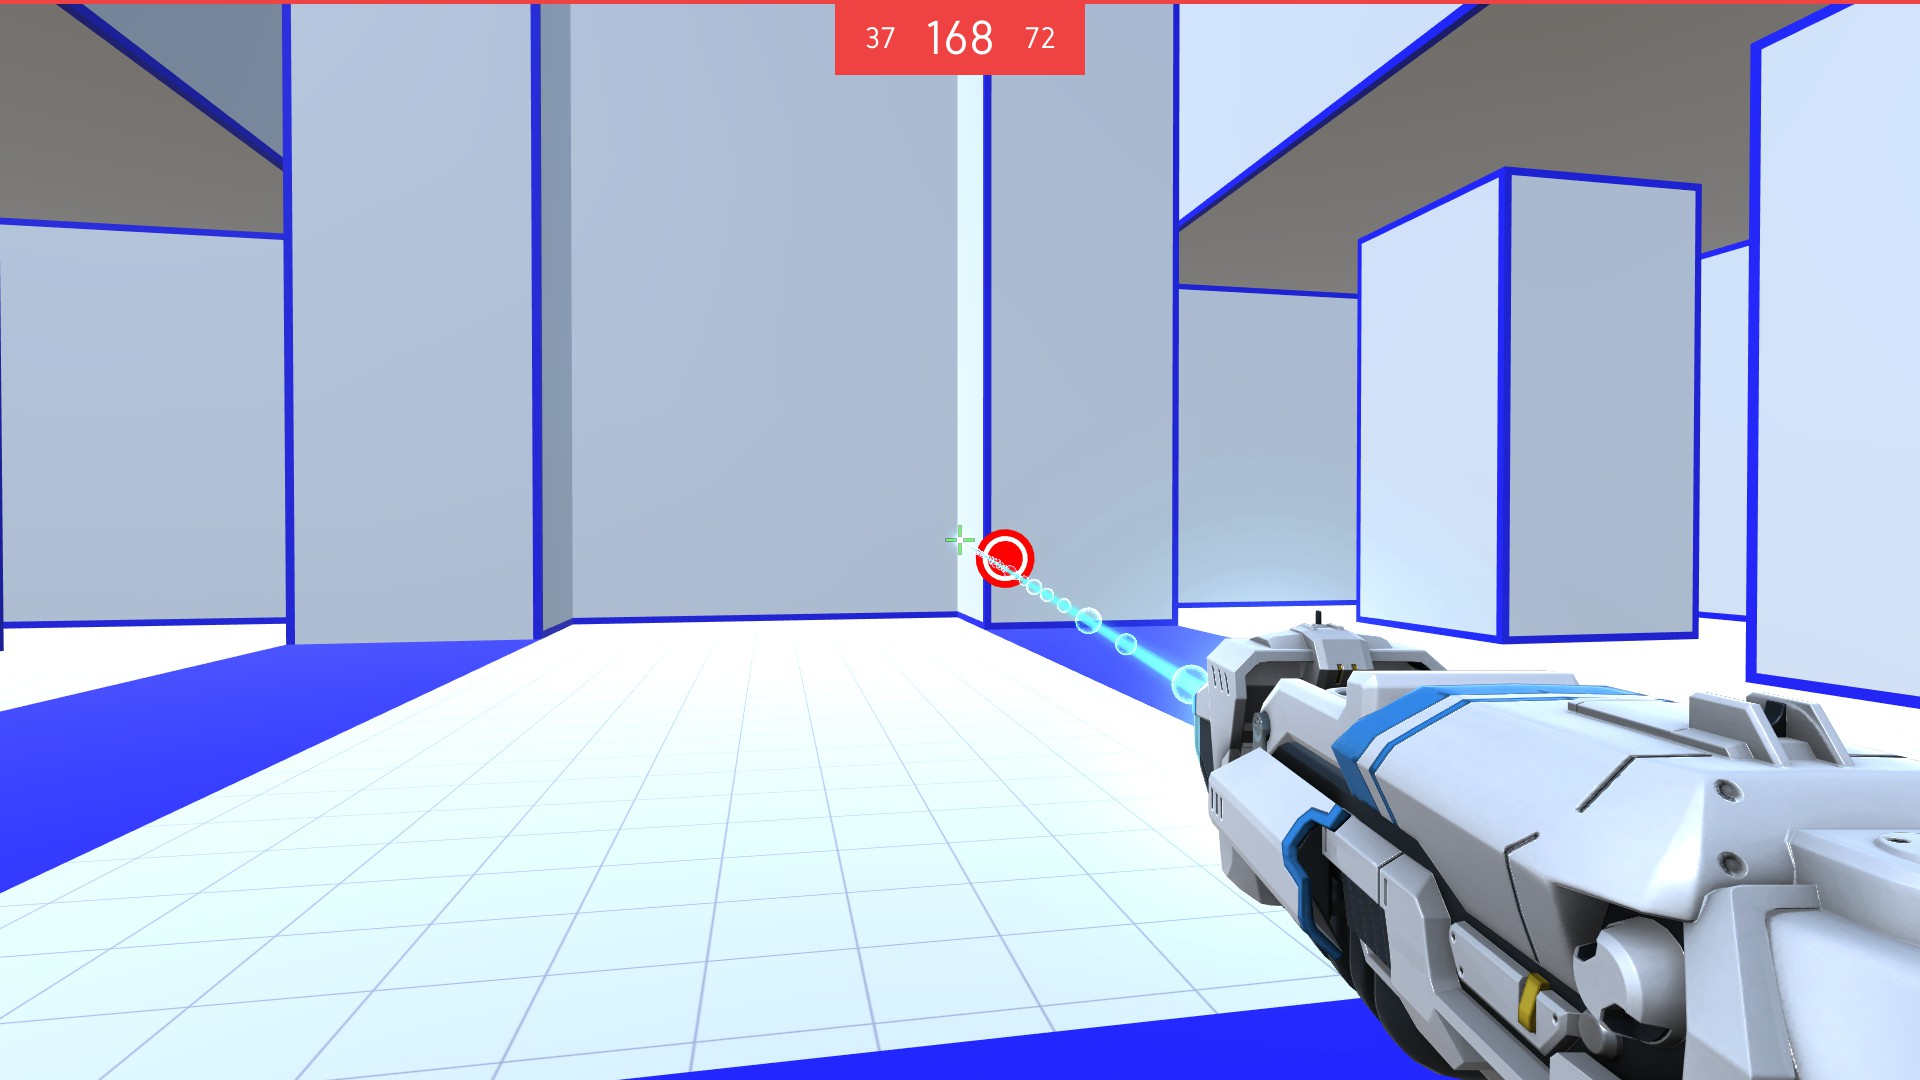target: (975, 530, 1040, 589)
